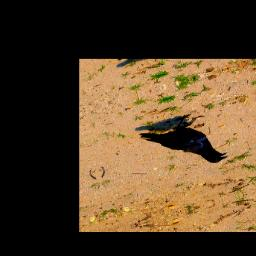Crow: (138, 107, 229, 182)
